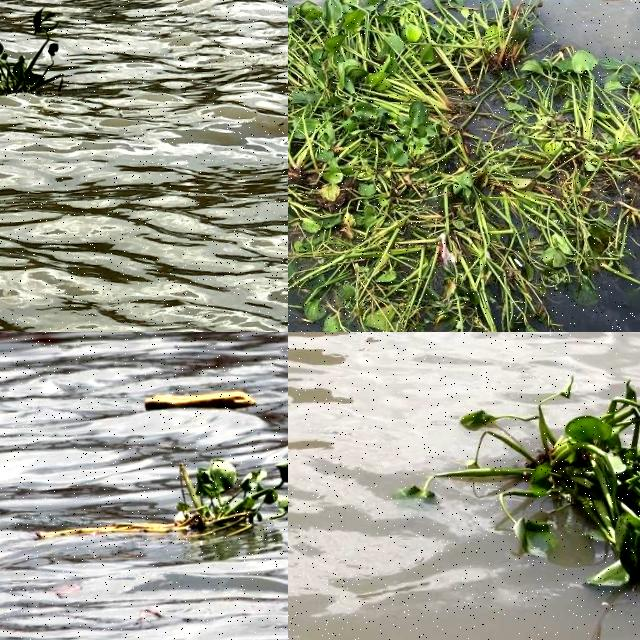water-hyacinth: (289, 1, 640, 333), (421, 365, 640, 599), (159, 455, 289, 548), (1, 6, 82, 106), (522, 1, 568, 21)
